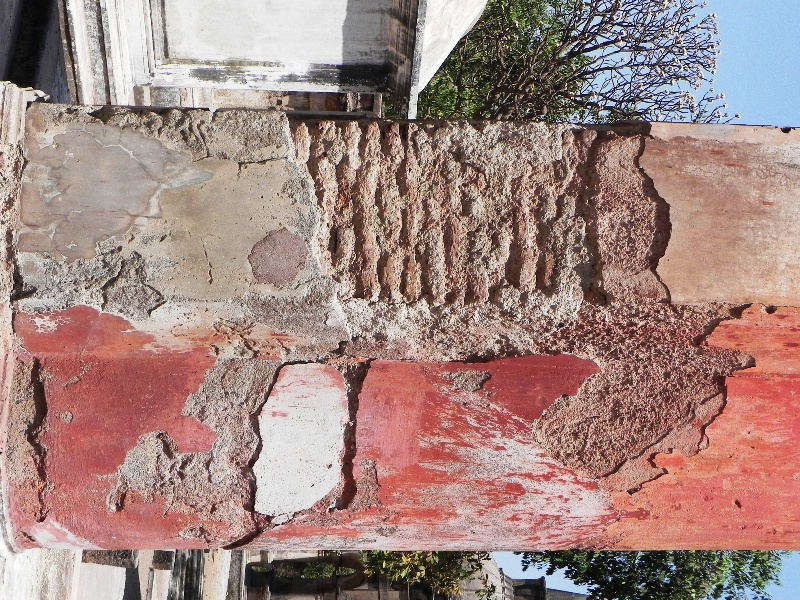Exposed Bricks: (283, 112, 593, 309)
Spalling: (537, 313, 763, 483), (106, 421, 214, 529), (14, 250, 170, 321), (82, 105, 219, 138)
